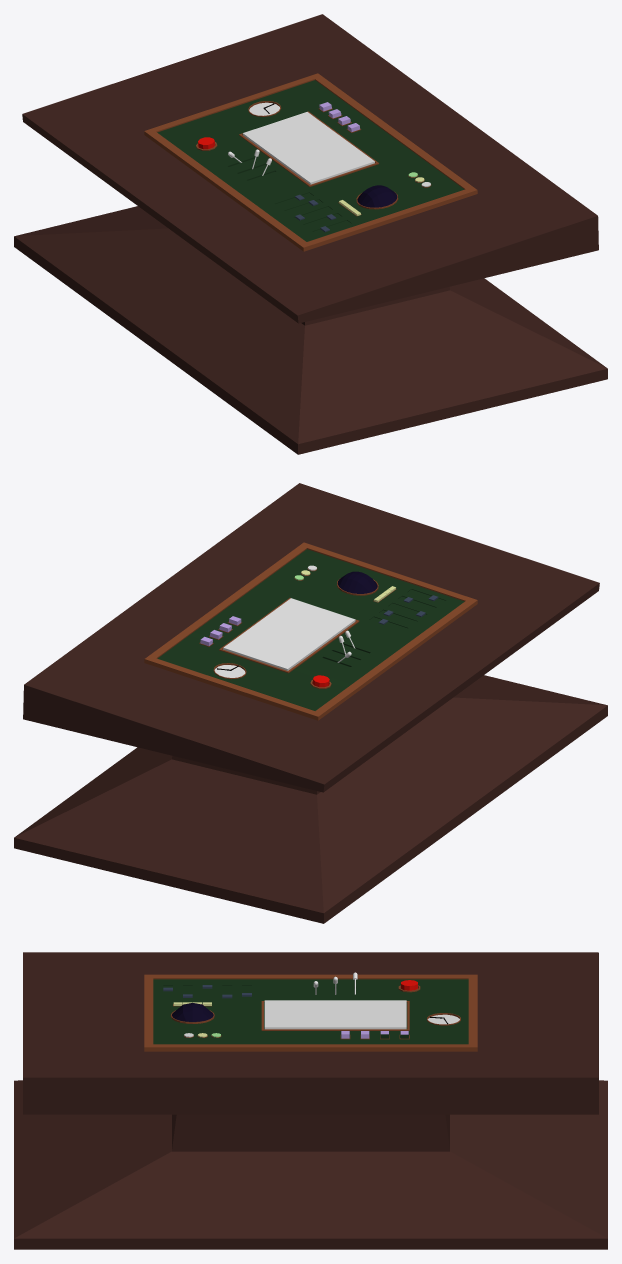
The model's file is controlDesk.fbx.
The picture shows the model from 3 angles, top to bottom: view 1: azimuth 30°, elevation 25°; view 2: azimuth 150°, elevation 25°; view 3: azimuth 270°, elevation 25°; orthographic projection. The views are drawn at different scales.
Visible parts, largest first — view 1: Cube, Cube.001, Cube.003; view 2: Cube, Cube.001, Cube.003; view 3: Cube, Cube.001, Cube.003.
Part boxes in pixels (<box>): Cube: <box>14,14,607,454</box>; Cube.001: <box>144,73,477,251</box>; Cube.003: <box>357,185,397,207</box>; Cube: <box>14,483,607,923</box>; Cube.001: <box>144,542,477,720</box>; Cube.003: <box>337,571,377,593</box>; Cube: <box>14,952,607,1249</box>; Cube.001: <box>144,974,477,1051</box>; Cube.003: <box>172,1003,213,1021</box>.
Size of the model in its own units: 590 by 300 by 936.
